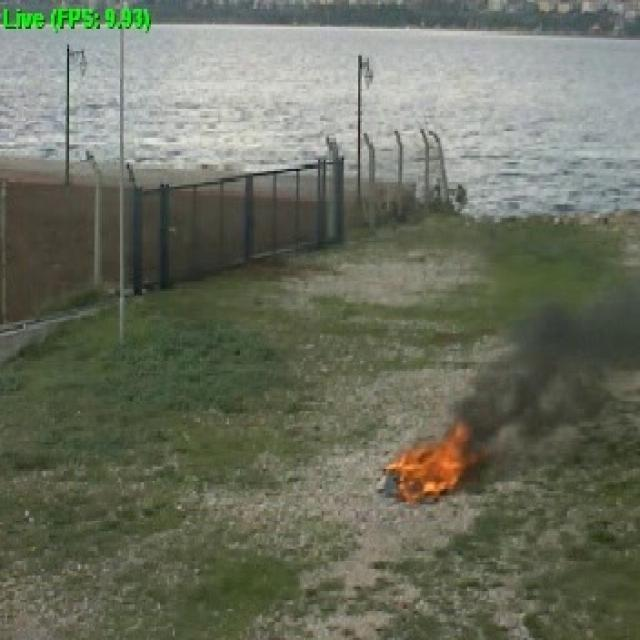fire: (395, 410, 467, 505)
